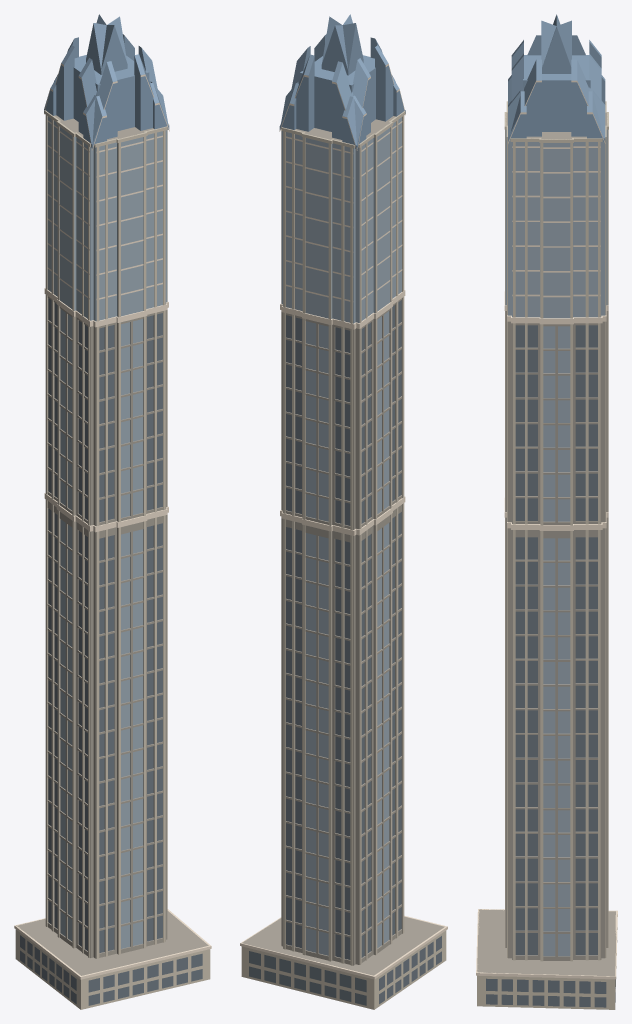
File: dubai-marina-101.detail.glb
The picture shows the model from 3 angles, left to right: view 1: azimuth 30°, elevation 25°; view 2: azimuth 150°, elevation 25°; view 3: azimuth 270°, elevation 25°; orthographic projection.
Visible parts, largest first — view 1: Marina 101; view 2: Marina 101; view 3: Marina 101.
Boxes of the visible parts, x1=… form: Marina 101: x1=14, y1=14, x2=211, y2=1009; Marina 101: x1=240, y1=14, x2=447, y2=1009; Marina 101: x1=476, y1=14, x2=617, y2=1009.
Size of the model in its own units: 64.68 by 425 by 57.25.
